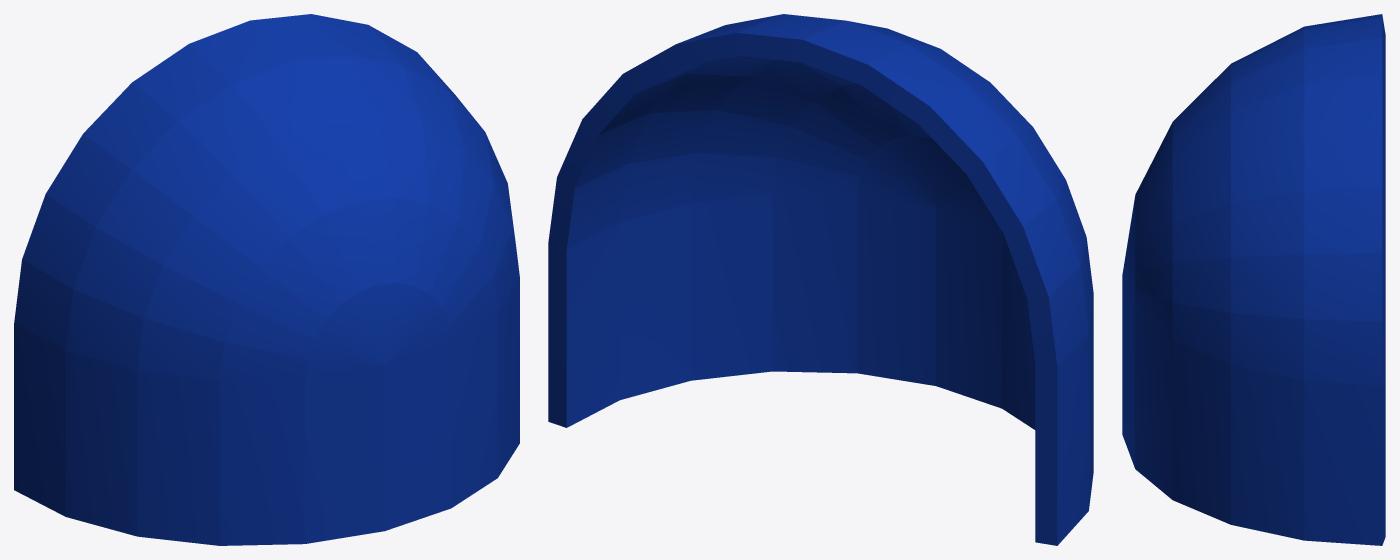
The model's file is But_bleu_v2_001.FBX.
The picture shows the model from 3 angles, left to right: view 1: azimuth 30°, elevation 25°; view 2: azimuth 150°, elevation 25°; view 3: azimuth 270°, elevation 25°; orthographic projection. The views are drawn at different scales.
Visible parts, largest first — view 1: Sphere004; view 2: Sphere004; view 3: Sphere004.
Part boxes in pixels (x1,y1,x2,y2): Sphere004: (14,14,519,545); Sphere004: (548,14,1093,545); Sphere004: (1122,14,1385,545).
Bounding box in the file's own units: 300 × 250 × 150.
